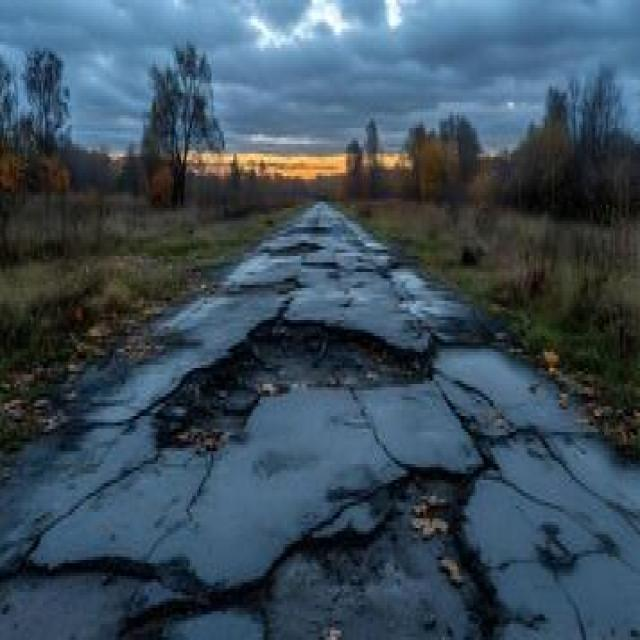road collapse: (5, 160, 640, 640)
